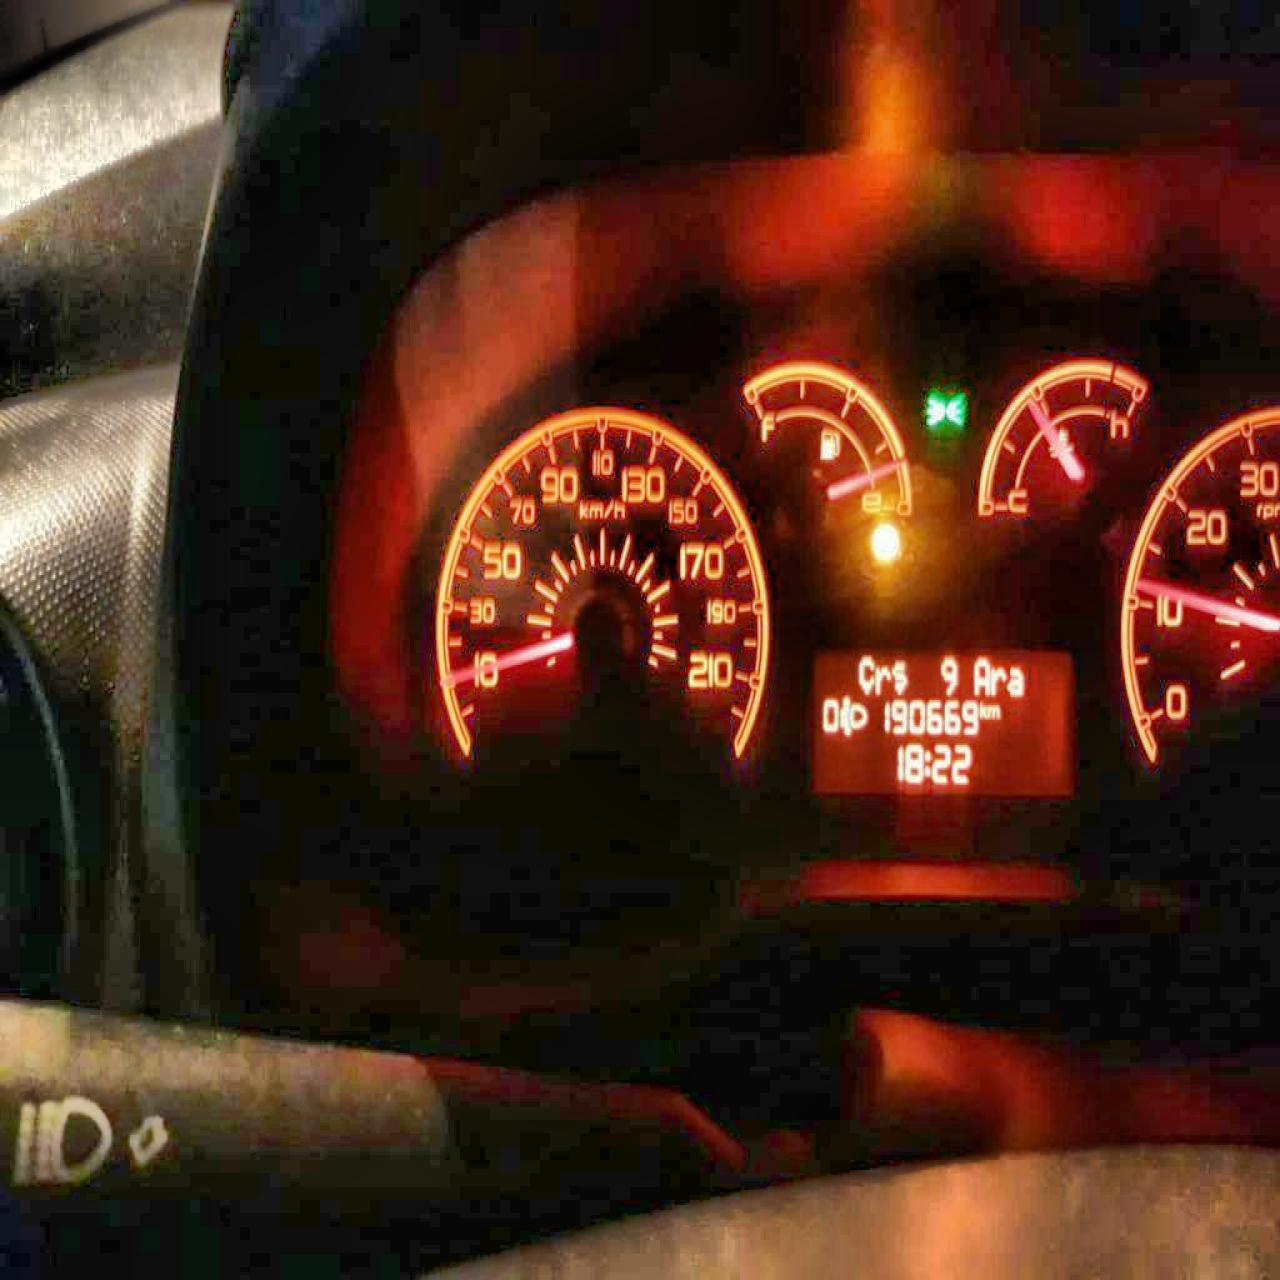0: (907, 696, 925, 735), (822, 695, 839, 734)
1: (896, 742, 903, 782), (883, 699, 888, 735)
2: (951, 742, 971, 783), (931, 740, 949, 783)
6: (942, 696, 960, 734), (925, 699, 941, 734)
8: (904, 740, 922, 785)
9: (939, 652, 961, 695), (890, 695, 907, 735), (961, 696, 978, 735)
X: (972, 653, 989, 695), (856, 653, 873, 695), (890, 656, 908, 695), (1008, 663, 1023, 696), (990, 662, 1006, 695), (874, 663, 890, 694), (987, 702, 1001, 720), (924, 744, 930, 778), (979, 696, 985, 719)
odometer: (806, 644, 1077, 799)
